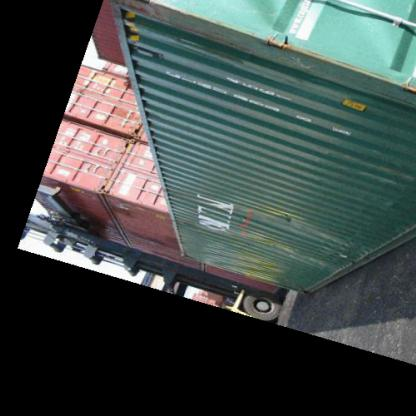Damage: (108, 2, 338, 93), (166, 186, 315, 286)
